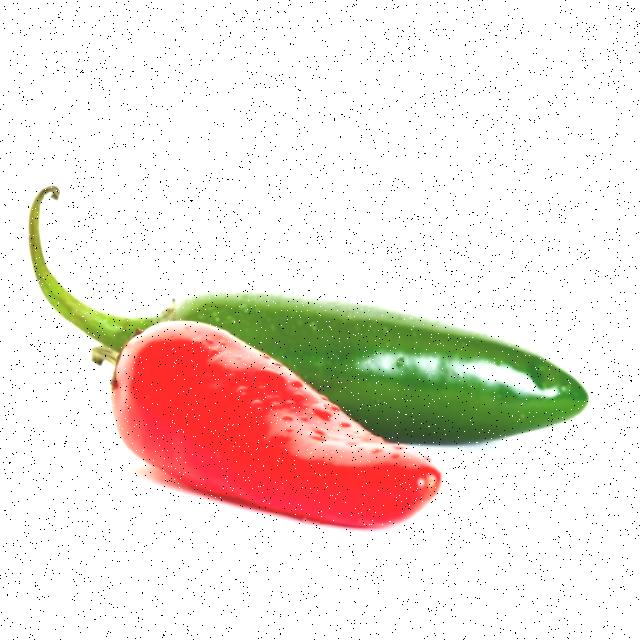Chili Pepper: (28, 186, 589, 444), (111, 322, 443, 529)
